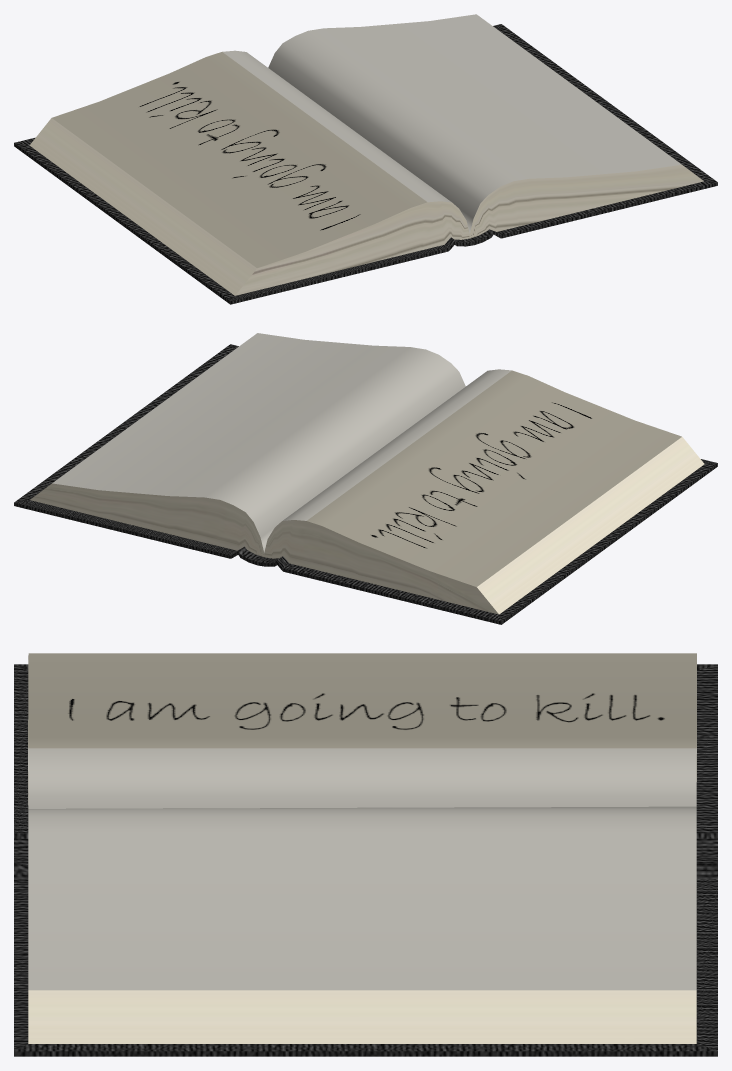
File: openbook.fbx
The picture shows the model from 3 angles, top to bottom: view 1: azimuth 30°, elevation 25°; view 2: azimuth 150°, elevation 25°; view 3: azimuth 270°, elevation 25°; orthographic projection. The views are drawn at different scales.
Visible parts, largest first — view 1: pCube1; view 2: pCube1; view 3: pCube1.
Boxes of the visible parts, box(x1,y1,x2,y2) form: pCube1: box(14, 14, 717, 304); pCube1: box(14, 333, 717, 624); pCube1: box(14, 653, 717, 1056).
Size of the model in its own units: 12.23 by 1.2 by 9.41.
Materials: 6 (4 with a texture image).
